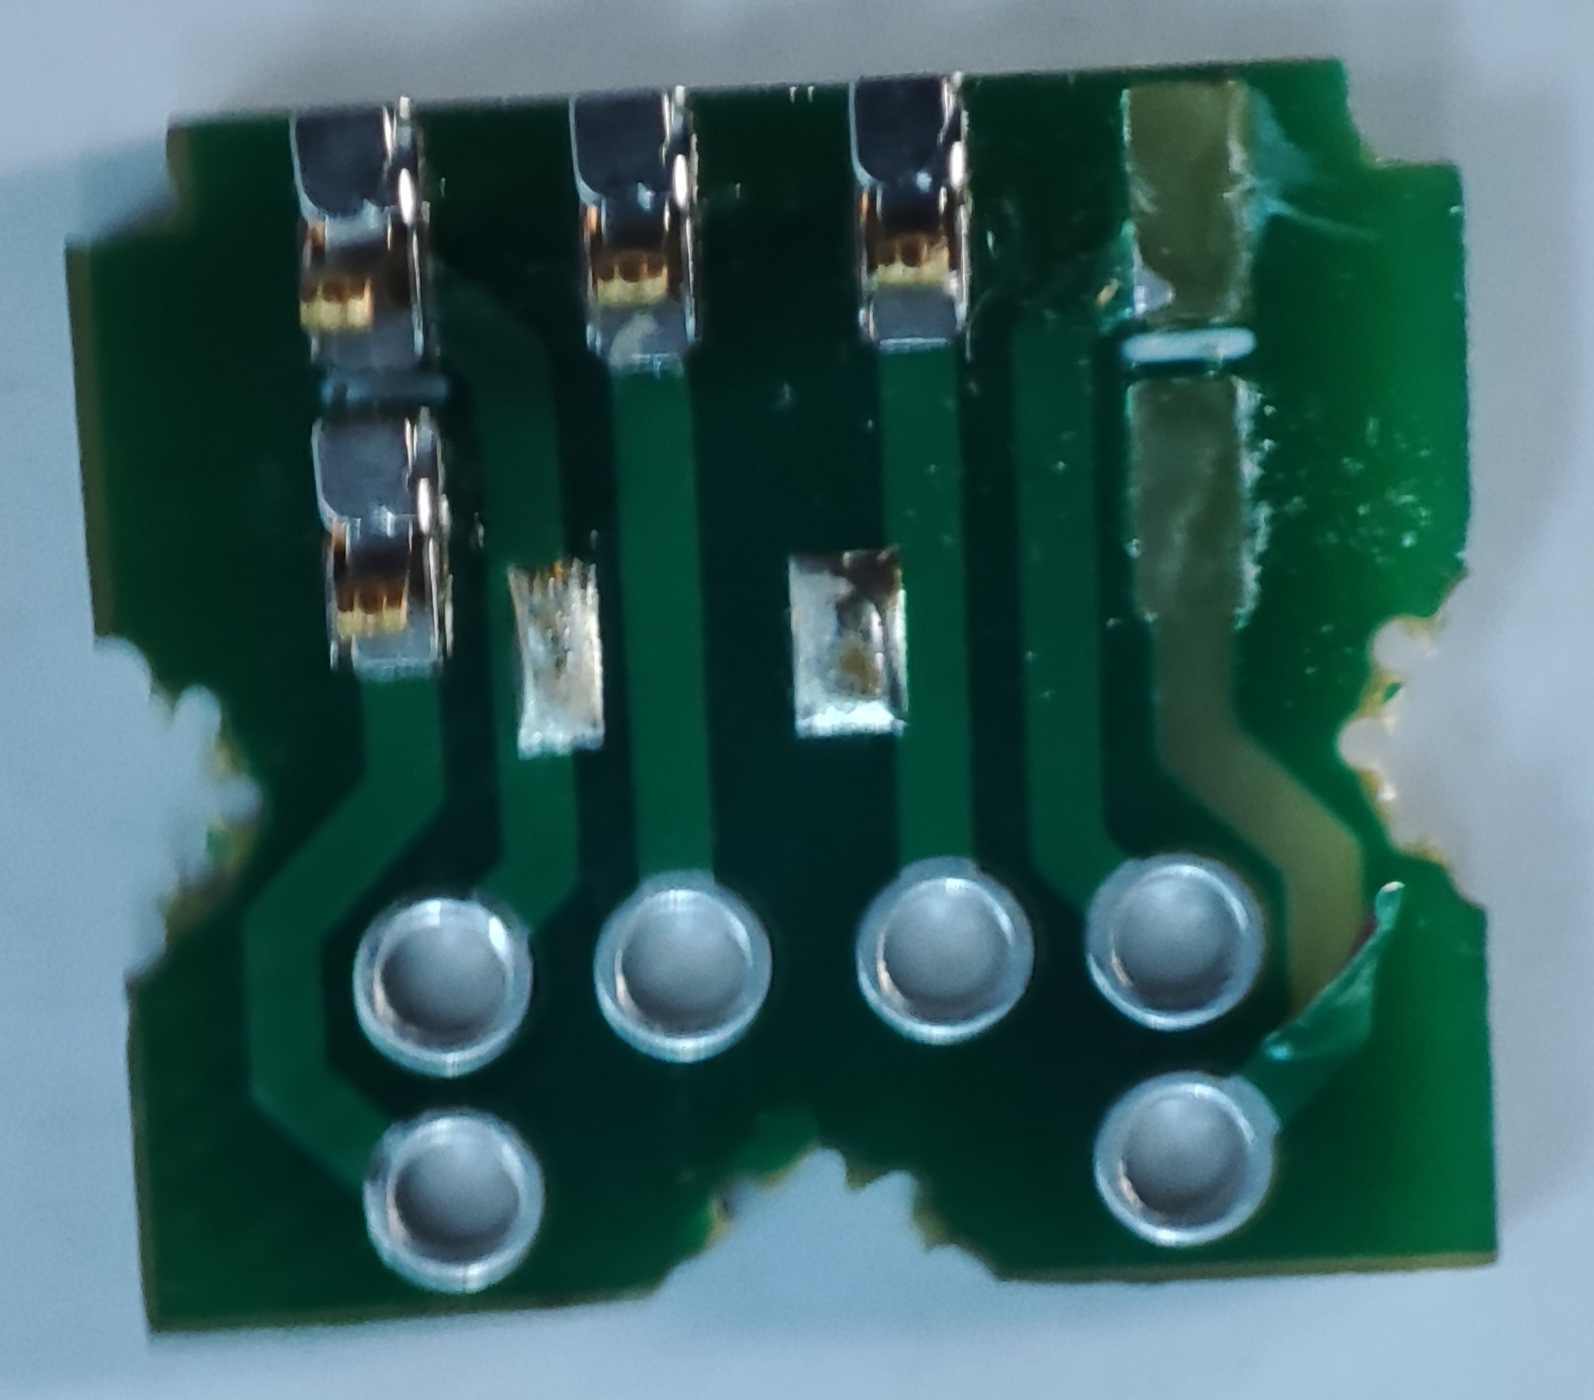PCB-MODEL-0: (37, 16, 1561, 1363)
defected-spring_finger: (1110, 363, 1271, 665), (1106, 43, 1267, 346)
normal-spring_finger: (281, 85, 474, 389), (285, 392, 478, 695), (538, 75, 732, 378), (815, 65, 1008, 369)
normal-through: (340, 874, 558, 1080), (580, 871, 777, 1073), (1078, 831, 1274, 1033), (1087, 1063, 1284, 1264), (355, 1105, 552, 1306), (844, 852, 1040, 1054)
